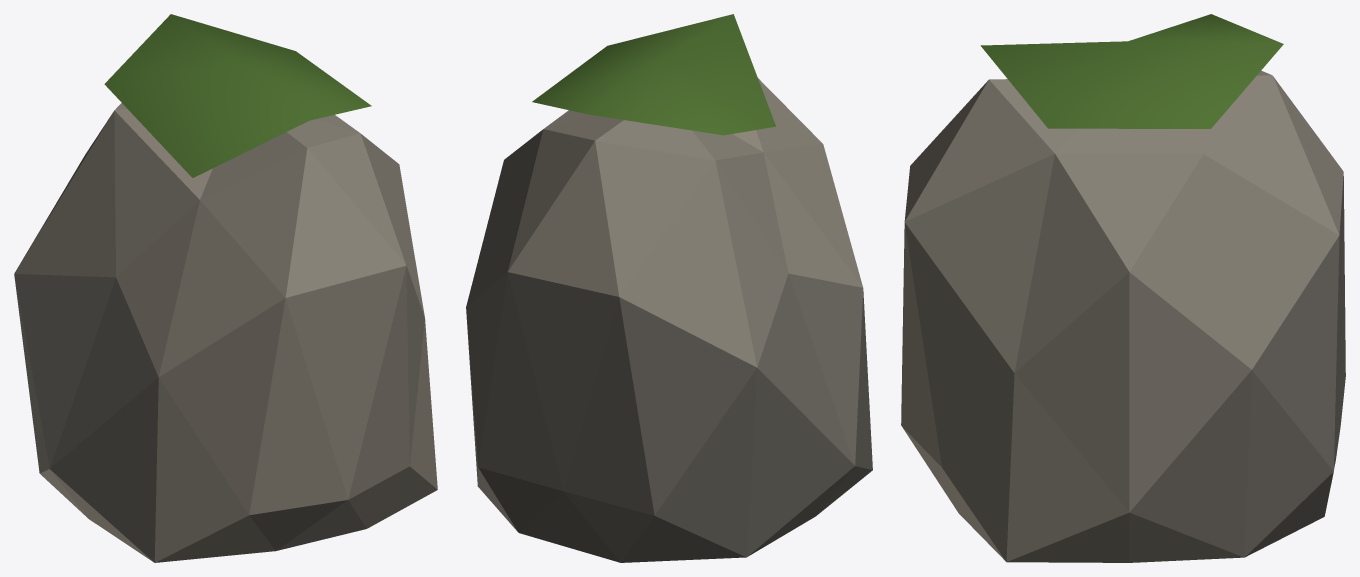
File: RockSmallA.glb
3 renders of one model, left to right at view 1: azimuth 30°, elevation 25°; view 2: azimuth 150°, elevation 25°; view 3: azimuth 270°, elevation 25°, orthographic. The views are drawn at different scales.
Parts seen in each view (by area): view 1: RockSmallA.stone, RockSmallA.stoneDark, RockSmallA.moss; view 2: RockSmallA.stoneDark, RockSmallA.stone, RockSmallA.moss; view 3: RockSmallA.stone, RockSmallA.stoneDark, RockSmallA.moss.
Boxes of the visible parts, <box> form: RockSmallA.stone: <box>14,103,437,562</box>; RockSmallA.stoneDark: <box>14,274,158,562</box>; RockSmallA.moss: <box>104,14,371,177</box>; RockSmallA.stoneDark: <box>466,272,872,562</box>; RockSmallA.stone: <box>466,78,872,556</box>; RockSmallA.moss: <box>532,14,775,135</box>; RockSmallA.stone: <box>901,70,1343,562</box>; RockSmallA.stoneDark: <box>1129,176,1345,557</box>; RockSmallA.moss: <box>980,14,1283,128</box>.
Size of the model in its own units: 1.8 by 2 by 1.8.
